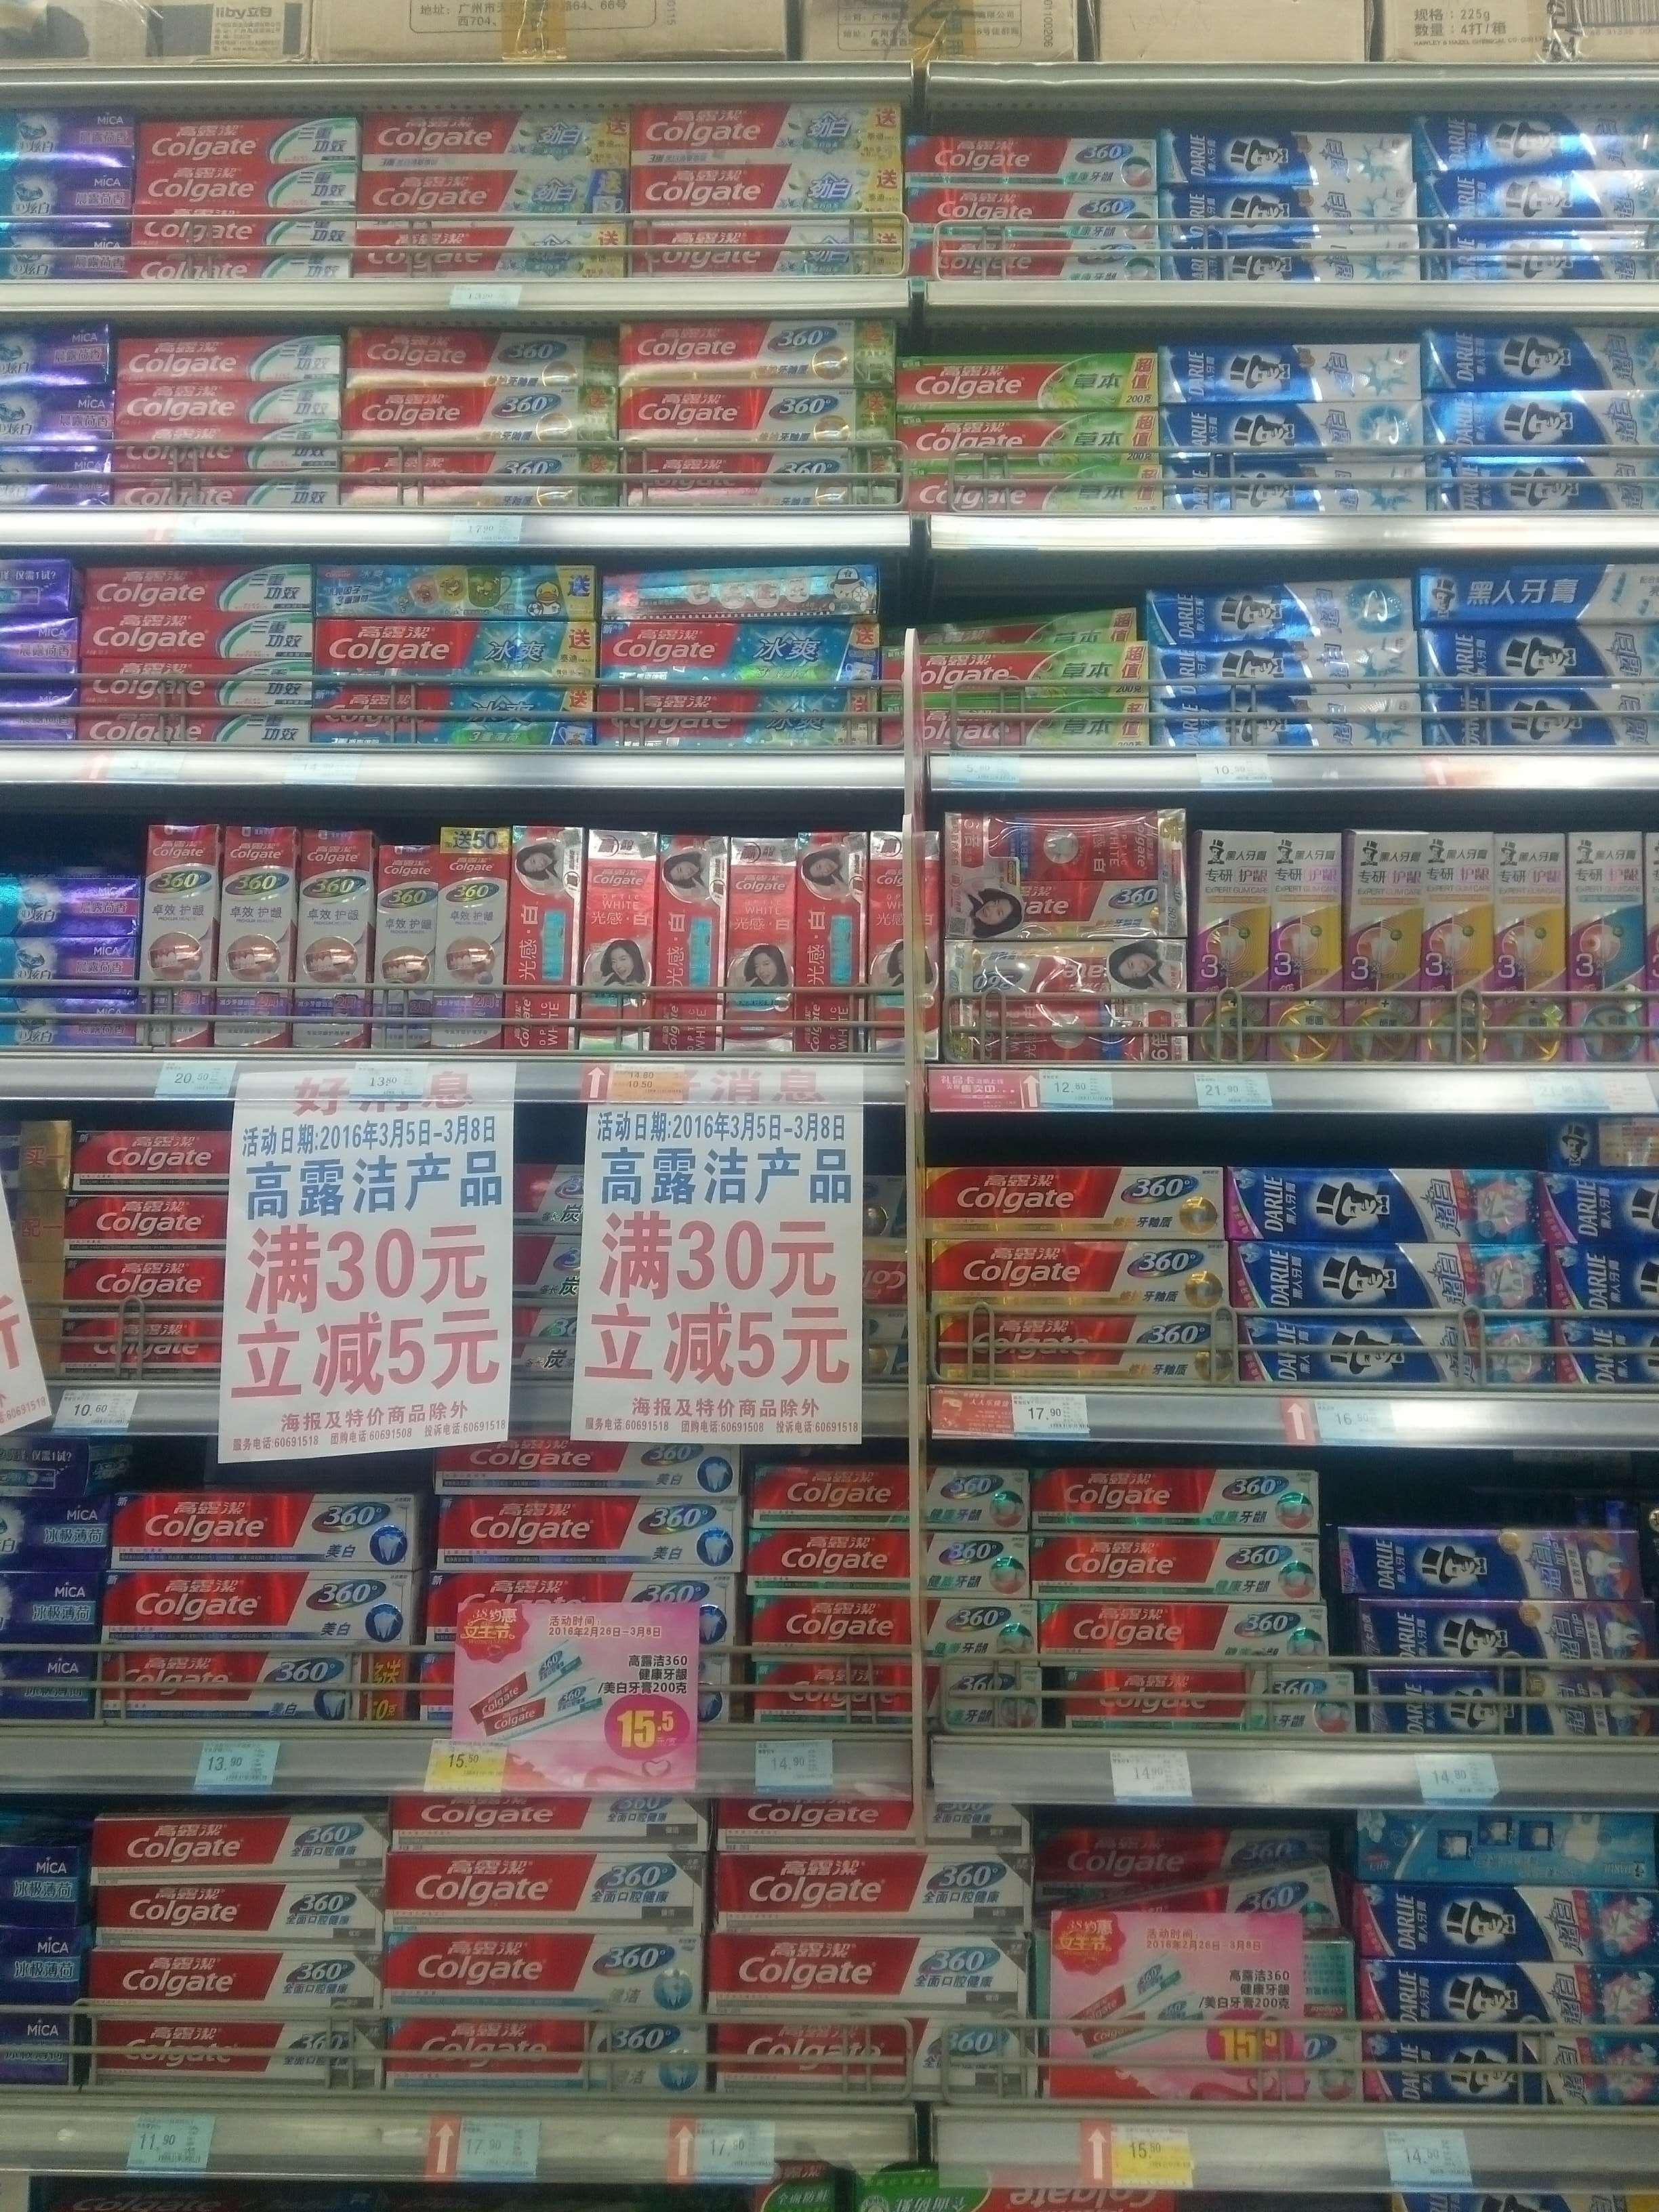empty: (1331, 1456, 1635, 1536)
